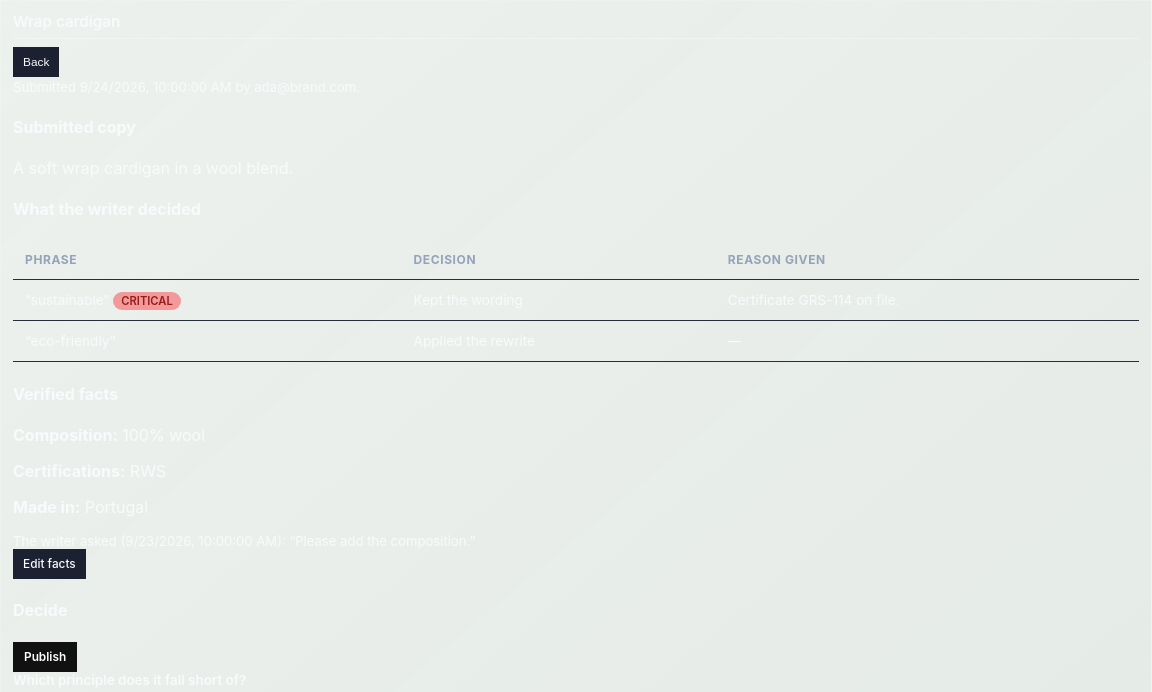
Scenario: publishing › when the server refuses, its reasons are shown and the override appears for someone who may use it
The width and height of the screenshot is (1152, 692).
What coordinates should you click on to do the following:
click the button "Publish"
I would click on:
 (45, 656)
Its box is [13,642,77,672].
(page scrolled)
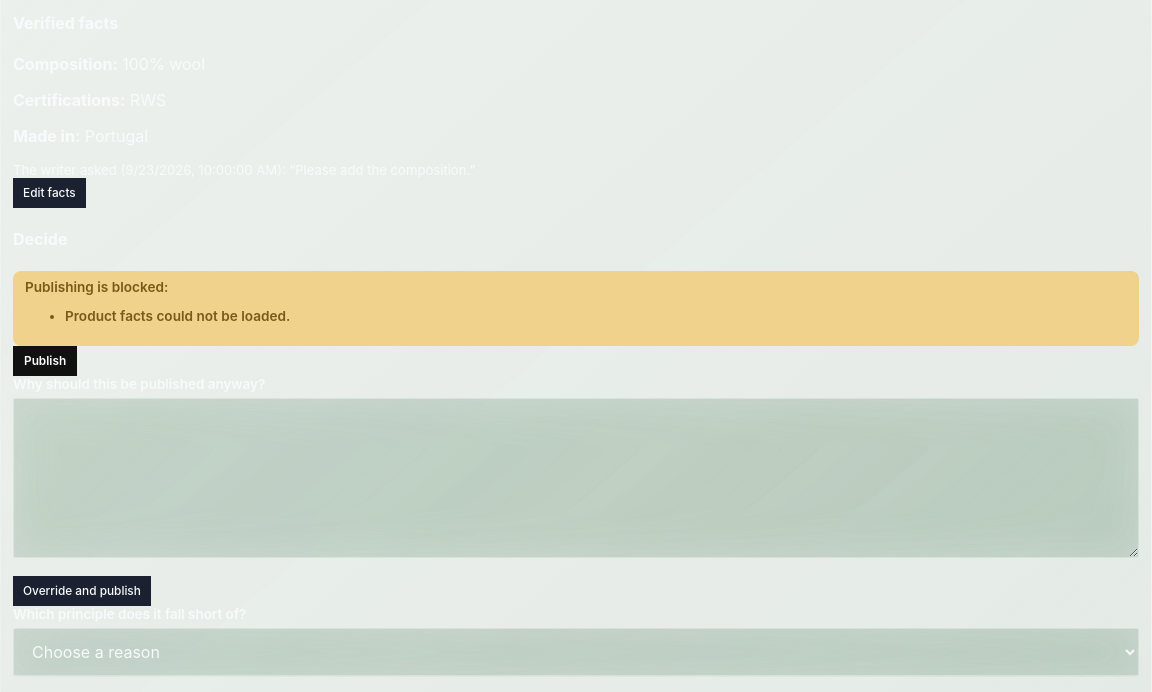
Result: the list item "Product facts could not be loaded." is shown at [65,308,290,324]
Result: the text box labelled "Why should this be published anyway?" is shown at [13,398,1139,558]
Result: the button "Publish" is disabled at [13,346,77,376]
